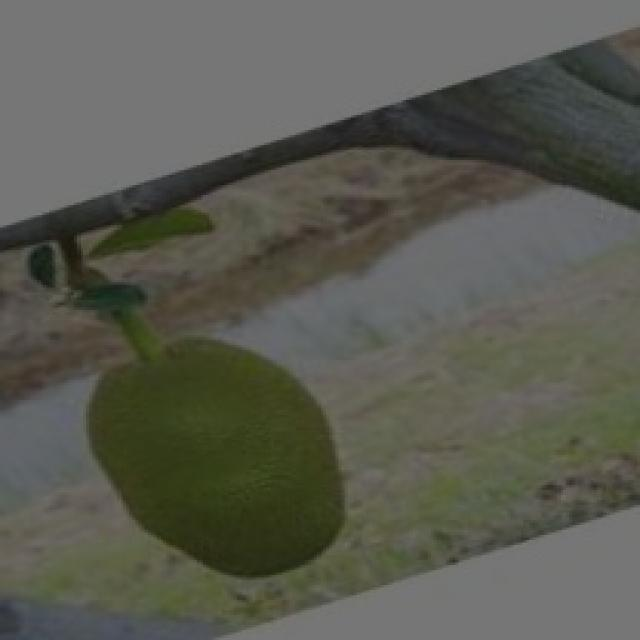Fruit: (49, 310, 376, 610)
